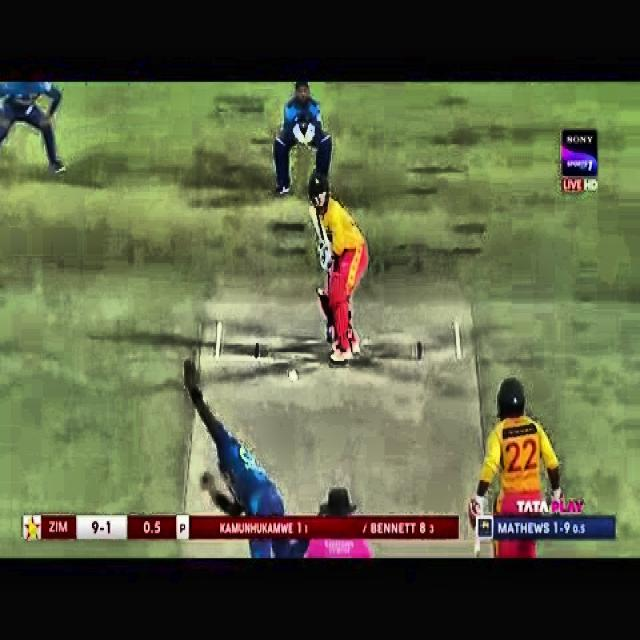Left-stump: (328, 322, 332, 342)
